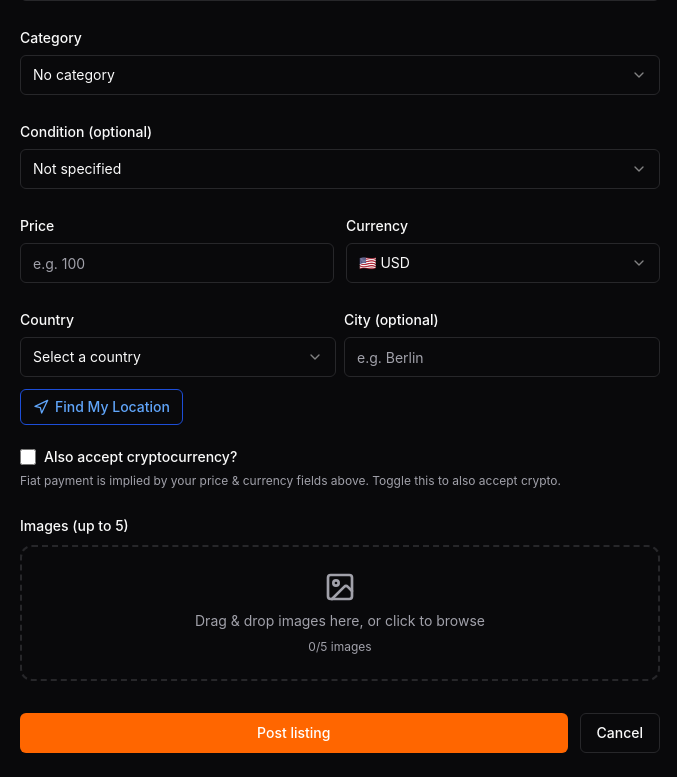
Test: CreateListingPage — crypto toggles › hides crypto buttons when checkbox is unchecked
(page scrolled)
Click the checkbox labelled "Also accept cryptocurrency?".
click(28, 457)  # box x1=20 y1=449 x2=36 y2=465
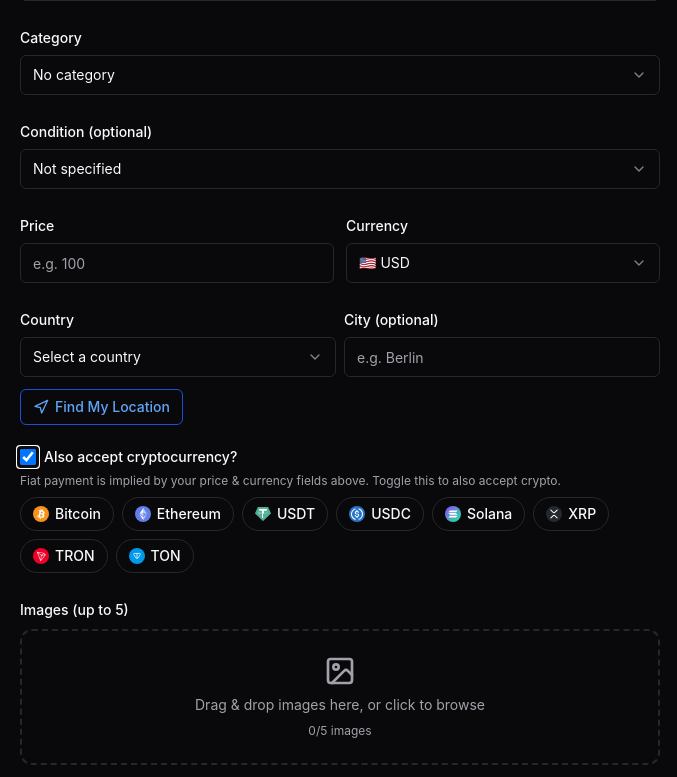
Check: the button "Bitcoin" is shown, box x1=20 y1=497 x2=114 y2=531
Click the checkbox labelled "Also accept cryptocurrency?".
click(28, 457)  # box x1=20 y1=449 x2=36 y2=465
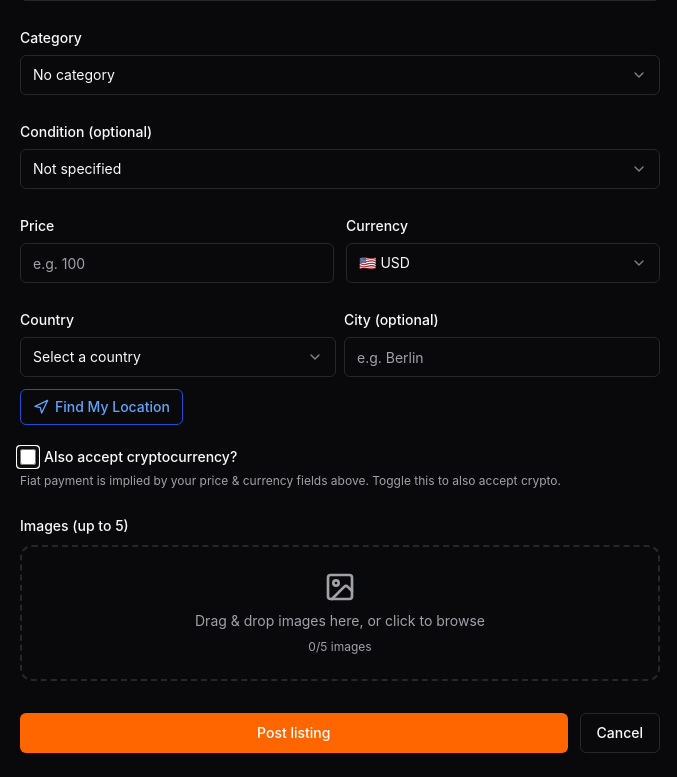
Check: the button "Bitcoin" is gone
